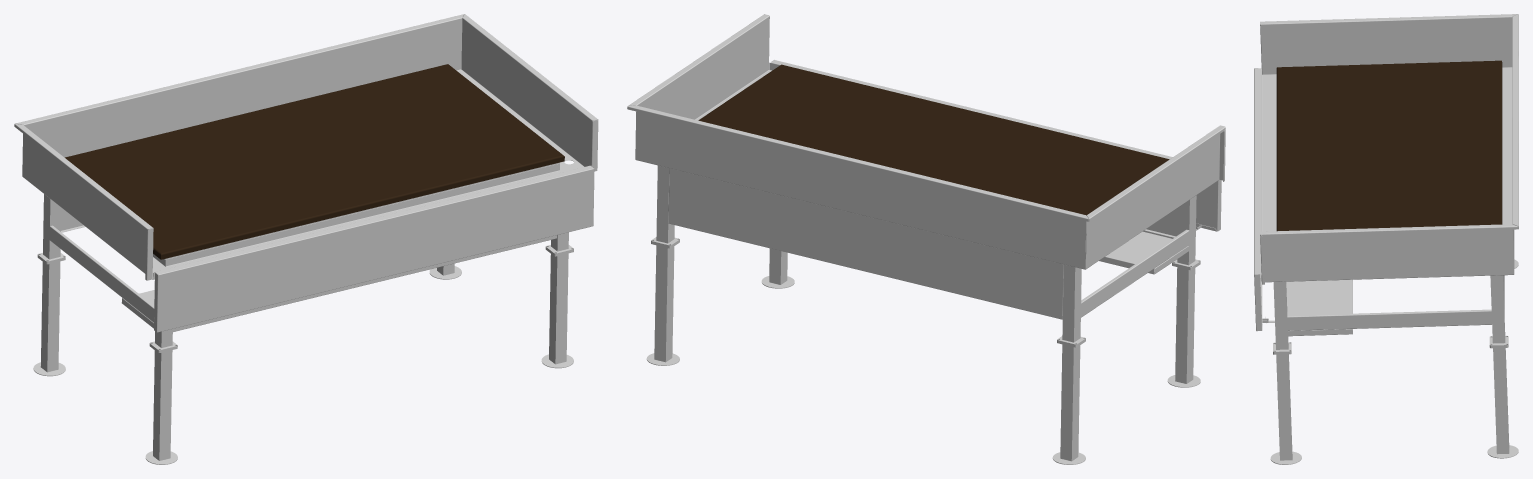
Rendered from Dosaplate.glb.
3 views of the same model, side by side, from view 1: azimuth 30°, elevation 25°; view 2: azimuth 150°, elevation 25°; view 3: azimuth 270°, elevation 25° (orthographic). The views are drawn at different scales.
Parts seen in each view (by area): view 1: Dosa - dosa stone^Dosa-1, Dosa - Glass wool cover-1, Dosa - Side skirt-1, Dosa - Right Skirt-1, Dosa - Left skirt-1, Dosa - Front drainage-1, Dosa - bottom leg-2, Dosa - bottom leg-1, Dosa - bottom leg-4, Dosa - Bottom Cover-1, Dosa - Bottom Side Cover-1, Dosa - Top leg-4 (+1 smaller); view 2: Dosa - dosa stone^Dosa-1, Dosa - Side skirt-1, Dosa - Front Cover-1, Dosa - Left skirt-1, Dosa - Right Skirt-1, Dosa - Glass wool cover-1, Dosa - bottom leg-1, Dosa - bottom leg-4, Dosa - bottom leg-3, Dosa - Bottom Side Cover-1, Dosa - Bottom Cover-1, Dosa - Top leg-4 (+3 smaller); view 3: Dosa - dosa stone^Dosa-1, Dosa - Right Skirt-1, Dosa - Left skirt-1, Dosa - Bottom Side Cover-2, Dosa - Side skirt-1, Dosa - Bottom Cover-1, Dosa - Front drainage-1, Dosa - Glass wool cover-1, Dosa - bottom leg-3, Dosa - bottom leg-2, Dosa - Top leg-3, Dosa - Top leg-2.
Boxes of the visible parts, left/top/right/bottom form: Dosa - dosa stone^Dosa-1: left=65, top=64, right=564, bottom=259; Dosa - Glass wool cover-1: left=154, top=165, right=594, bottom=332; Dosa - Side skirt-1: left=15, top=14, right=464, bottom=157; Dosa - Right Skirt-1: left=459, top=14, right=598, bottom=171; Dosa - Left skirt-1: left=14, top=124, right=165, bottom=280; Dosa - Front drainage-1: left=153, top=163, right=591, bottom=279; Dosa - bottom leg-2: left=541, top=248, right=573, bottom=368; Dosa - bottom leg-1: left=145, top=345, right=177, bottom=464; Dosa - bottom leg-4: left=33, top=256, right=65, bottom=376; Dosa - Bottom Cover-1: left=121, top=235, right=556, bottom=331; Dosa - Bottom Side Cover-1: left=49, top=225, right=154, bottom=322; Dosa - Top leg-4: left=37, top=194, right=65, bottom=262; Dosa - dosa stone^Dosa-1: left=698, top=64, right=1169, bottom=215; Dosa - Side skirt-1: left=627, top=105, right=1088, bottom=269; Dosa - Front Cover-1: left=668, top=168, right=1063, bottom=319; Dosa - Left skirt-1: left=1085, top=125, right=1225, bottom=269; Dosa - Right Skirt-1: left=627, top=14, right=770, bottom=157; Dosa - Glass wool cover-1: left=770, top=59, right=1221, bottom=231; Dosa - bottom leg-1: left=1167, top=263, right=1200, bottom=387; Dosa - bottom leg-4: left=1052, top=340, right=1085, bottom=464; Dosa - bottom leg-3: left=646, top=241, right=679, bottom=365; Dosa - Bottom Side Cover-1: left=1081, top=229, right=1189, bottom=317; Dosa - Bottom Cover-1: left=1099, top=229, right=1188, bottom=274; Dosa - Top leg-4: left=1057, top=264, right=1085, bottom=345; Dosa - dosa stone^Dosa-1: left=1276, top=60, right=1502, bottom=231; Dosa - Right Skirt-1: left=1260, top=224, right=1518, bottom=284; Dosa - Left skirt-1: left=1260, top=14, right=1517, bottom=82; Dosa - Bottom Side Cover-2: left=1287, top=309, right=1491, bottom=330; Dosa - Side skirt-1: left=1502, top=14, right=1518, bottom=274; Dosa - Bottom Cover-1: left=1286, top=279, right=1352, bottom=336; Dosa - Front drainage-1: left=1261, top=75, right=1276, bottom=280; Dosa - Glass wool cover-1: left=1254, top=68, right=1268, bottom=331; Dosa - bottom leg-3: left=1487, top=346, right=1518, bottom=458; Dosa - bottom leg-2: left=1270, top=352, right=1301, bottom=464; Dosa - Top leg-3: left=1489, top=275, right=1508, bottom=346; Dosa - Top leg-2: left=1273, top=281, right=1291, bottom=353.
Bounding box in the file's own units: 20.42 × 10.96 × 10.74.
